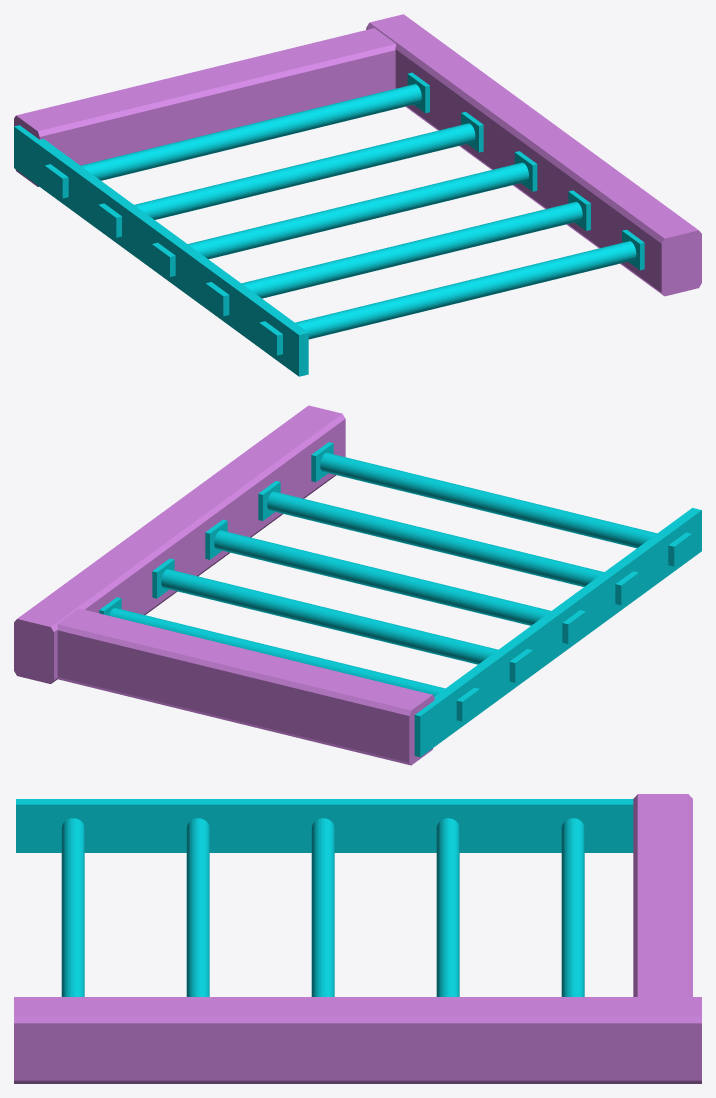
File: Boss2_Platform_Top_Right_Bottom_AJ.fbx
3 views of the same model, one above another, from view 1: azimuth 30°, elevation 25°; view 2: azimuth 150°, elevation 25°; view 3: azimuth 270°, elevation 25° (orthographic). The views are drawn at different scales.
Visible parts, largest first — view 1: Platform_Top.001; view 2: Platform_Top.001; view 3: Platform_Top.001.
Part boxes in pixels (x1,y1,x2,y2): Platform_Top.001: (14,14,701,376); Platform_Top.001: (14,405,701,765); Platform_Top.001: (14,794,701,1083).
Size of the model in its own units: 665 by 90 by 833.
